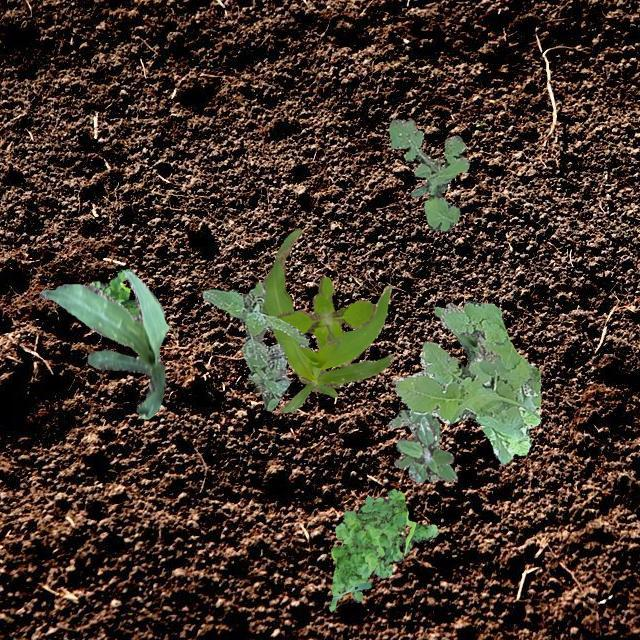crop: (262, 228, 392, 412), (39, 270, 168, 418), (434, 302, 478, 359)
weed: (390, 300, 540, 463), (202, 282, 308, 409), (328, 488, 437, 610), (388, 117, 468, 230), (274, 276, 374, 348), (388, 408, 456, 481), (396, 416, 452, 482), (88, 268, 138, 316), (410, 176, 450, 196)
